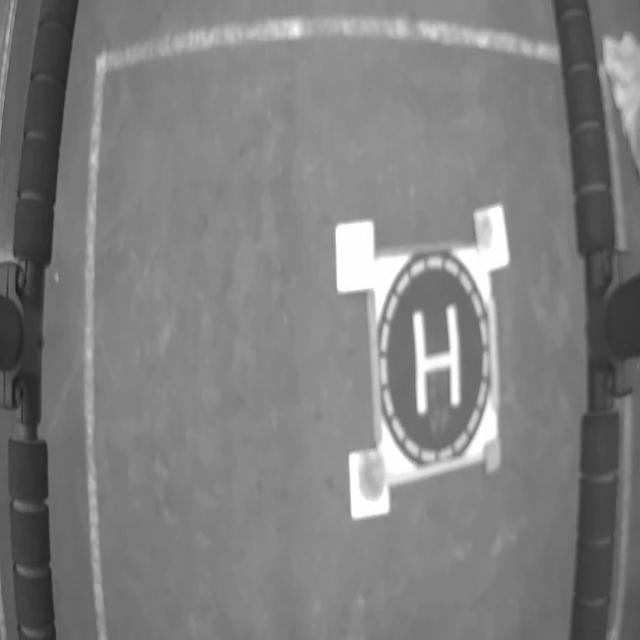Helipad: (412, 305, 460, 415)
